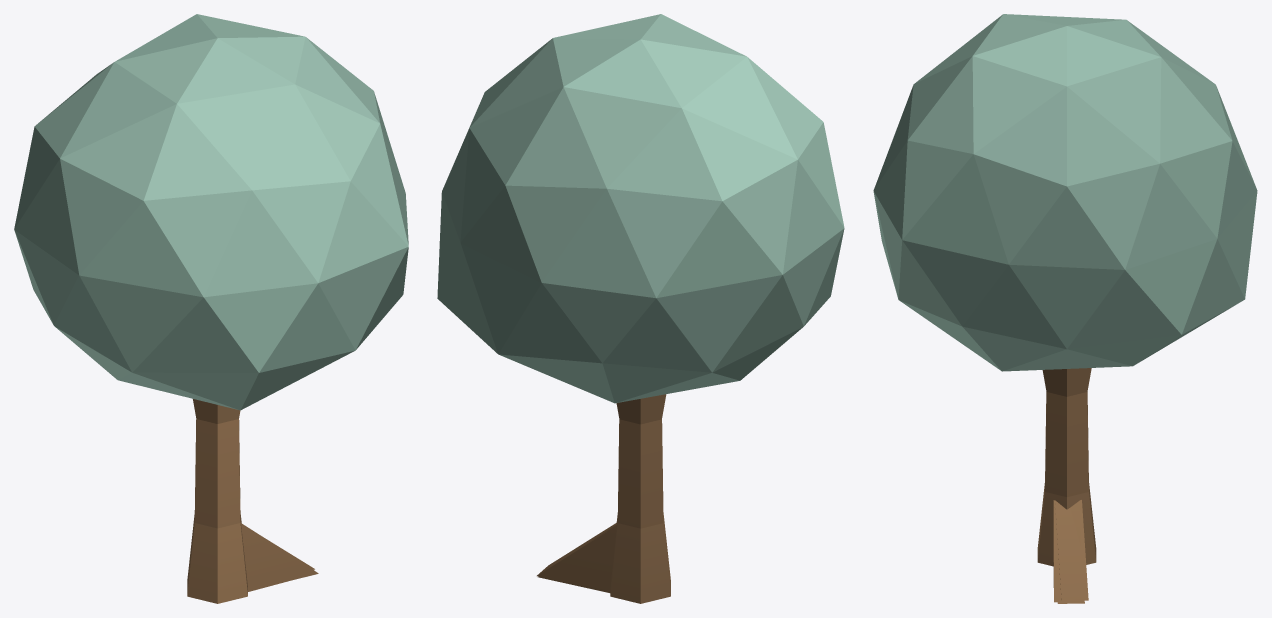
The model's file is tree-lo.glb.
3 renders of one model, left to right at view 1: azimuth 30°, elevation 25°; view 2: azimuth 150°, elevation 25°; view 3: azimuth 270°, elevation 25°, orthographic. The views are drawn at different scales.
Visible parts, largest first — view 1: static_mesh; view 2: static_mesh; view 3: static_mesh.
Part boxes in pixels (x1,y1,x2,y2): static_mesh: [14, 14, 408, 603]; static_mesh: [437, 14, 844, 603]; static_mesh: [873, 14, 1257, 603].
Bounding box in the file's own units: 2.24 × 3.48 × 2.27.
